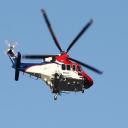helicopter: (5, 8, 105, 101)
